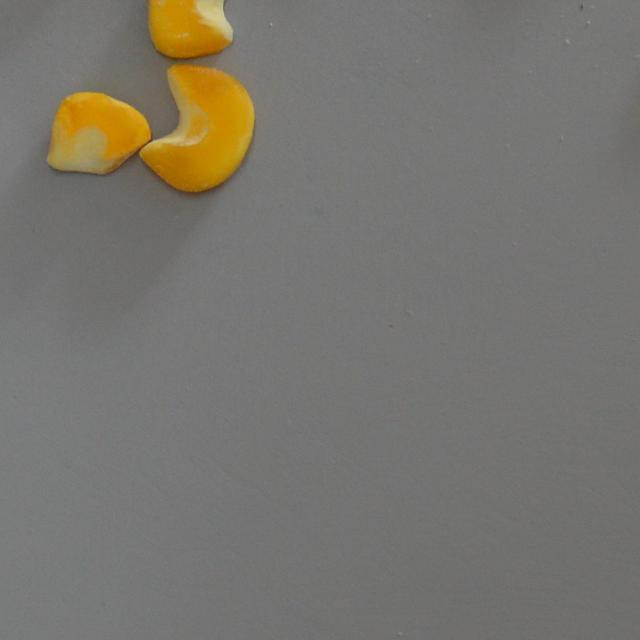no_canjicado: (136, 59, 258, 196)
no_desgerminado: (44, 86, 154, 177)
pelicula: (143, 0, 240, 64)
